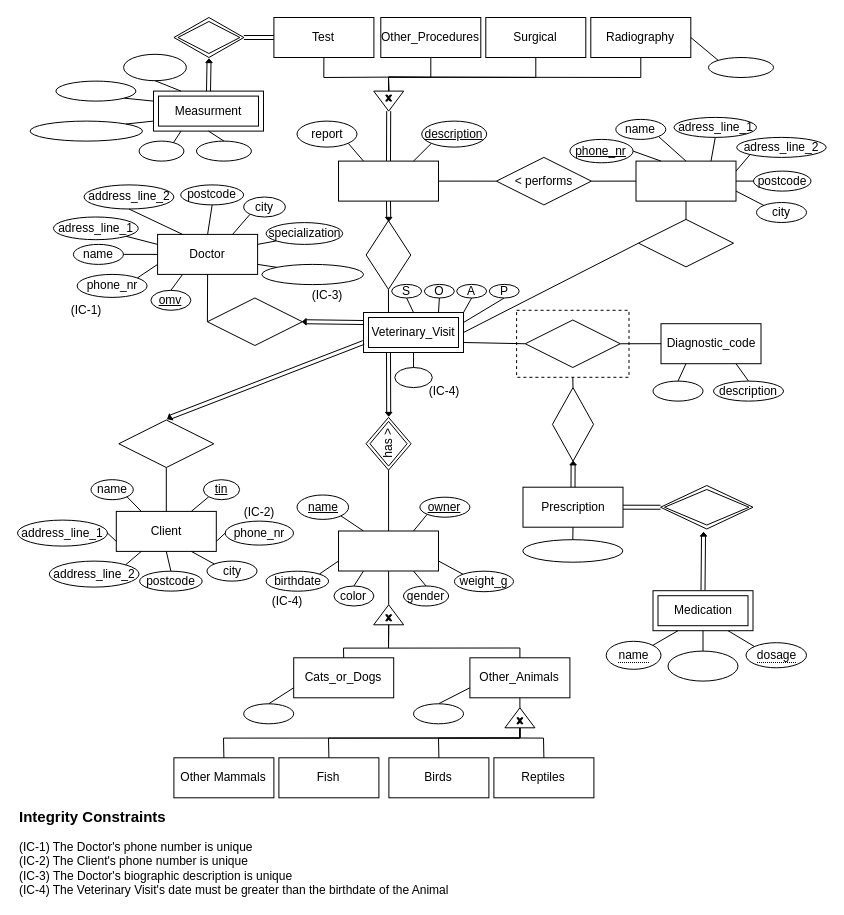
Some shapes in this 844 by 915 pixel diagram are drawn without their labels. Here are the shapes that lost their labels. From the top down, the box of each, then its label:
(173, 16, 244, 58): < yields
(123, 53, 186, 81): indicator
(708, 56, 774, 78): img_path
(55, 80, 136, 101): ref_range
(29, 120, 142, 141): range_description
(138, 140, 184, 161): values
(196, 140, 251, 161): units
(338, 160, 438, 201): Procedure
(635, 160, 736, 201): Assis tant
(365, 220, 411, 289): involves >
(638, 218, 734, 267): < assists
(261, 263, 364, 285): biog_description
(206, 297, 302, 346): gives >
(524, 319, 620, 368): associated>
(394, 366, 432, 388): date
(652, 380, 703, 401): code
(118, 419, 214, 468): requests >
(551, 386, 594, 461): < warrants
(660, 484, 753, 529): precribes >
(338, 530, 438, 571): Animal
(522, 539, 623, 562): prescription_id
(667, 650, 738, 681): laboratory
(243, 703, 294, 724): breed
(412, 703, 464, 724): species
